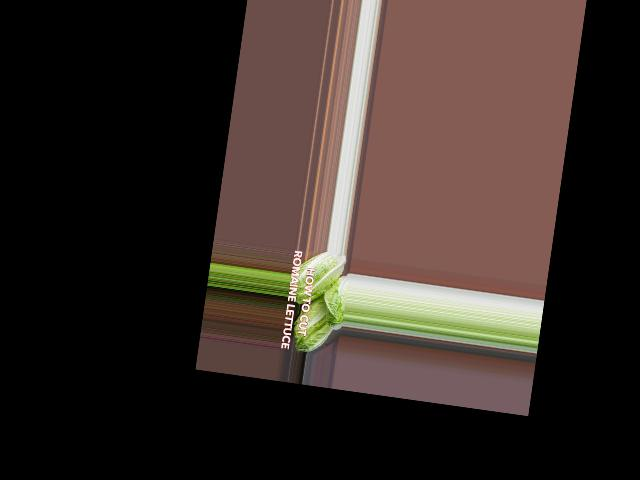lettuce: (285, 287, 341, 358)
